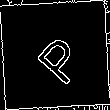P_NW: (24, 24, 86, 86)
